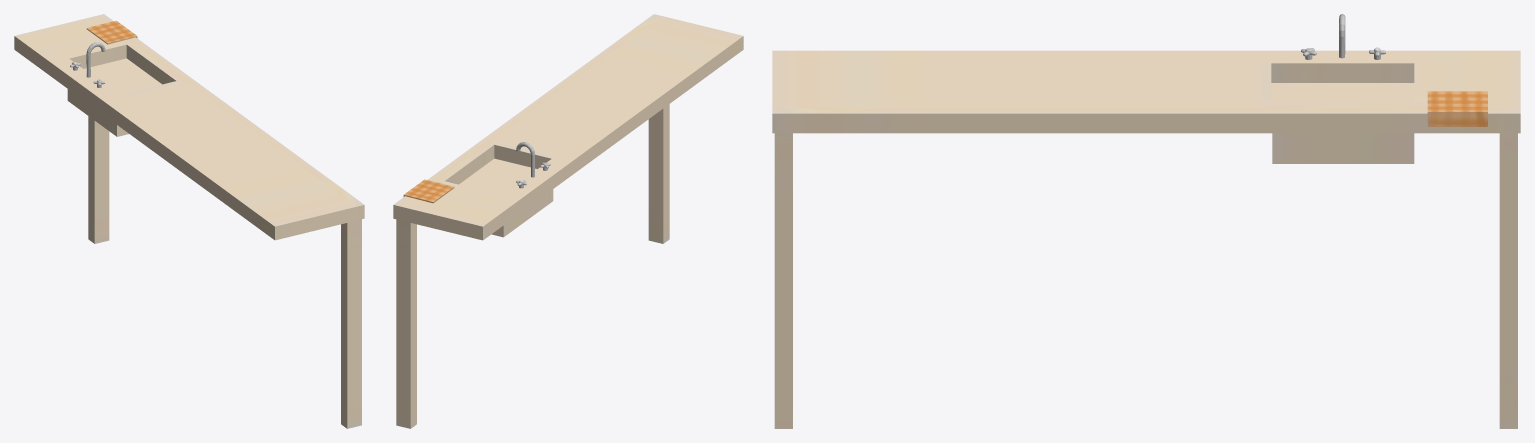
File: Barracolor.fbx
3 views of the same model, side by side, from view 1: azimuth 30°, elevation 25°; view 2: azimuth 150°, elevation 25°; view 3: azimuth 270°, elevation 25° (orthographic). The views are drawn at different scales.
Visible parts, largest first — view 1: Cube, Cube.004, Cube.003, Plane; view 2: Cube, Cube.003, Cube.004, Plane; view 3: Cube, Cube.003, Cube.004, Plane.
Part boxes in pixels (x1,y1,x2,y2): Cube: [14, 14, 364, 240]; Cube.004: [341, 219, 361, 428]; Cube.003: [88, 116, 109, 243]; Plane: [86, 20, 137, 44]; Cube: [393, 14, 743, 240]; Cube.003: [396, 219, 416, 428]; Cube.004: [648, 104, 669, 243]; Plane: [403, 179, 454, 203]; Cube: [772, 50, 1520, 163]; Cube.003: [1499, 133, 1517, 428]; Cube.004: [774, 133, 792, 428]; Plane: [1427, 91, 1487, 126].
Size of the model in its own units: 306 by 816 by 1511.
Materials: 7 (7 with a texture image).
